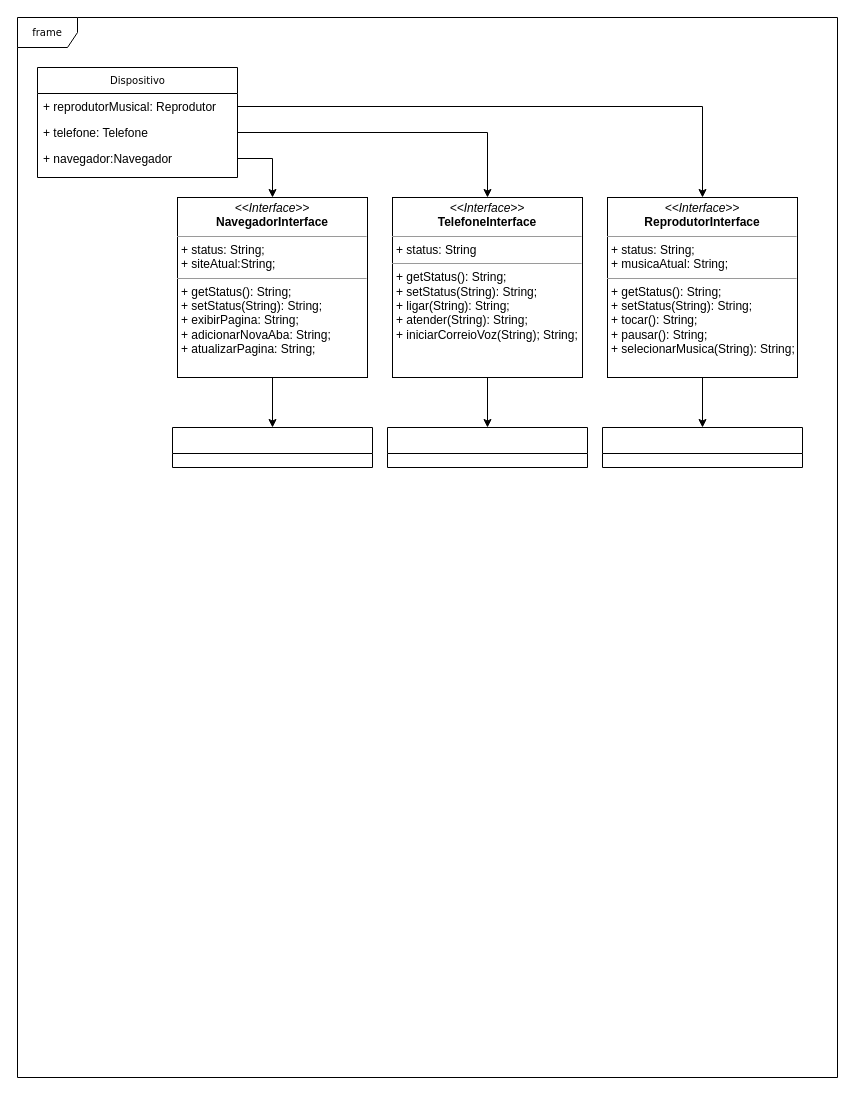
Some shapes in this 855 by 1095 pixel diagram are drawn without their labels. Here are the shapes that lost their labels. From the top down, the centre of each, then its label:
(x=272, y=447): Navegador
(x=487, y=447): Telefone
(x=702, y=447): Reprodutor
